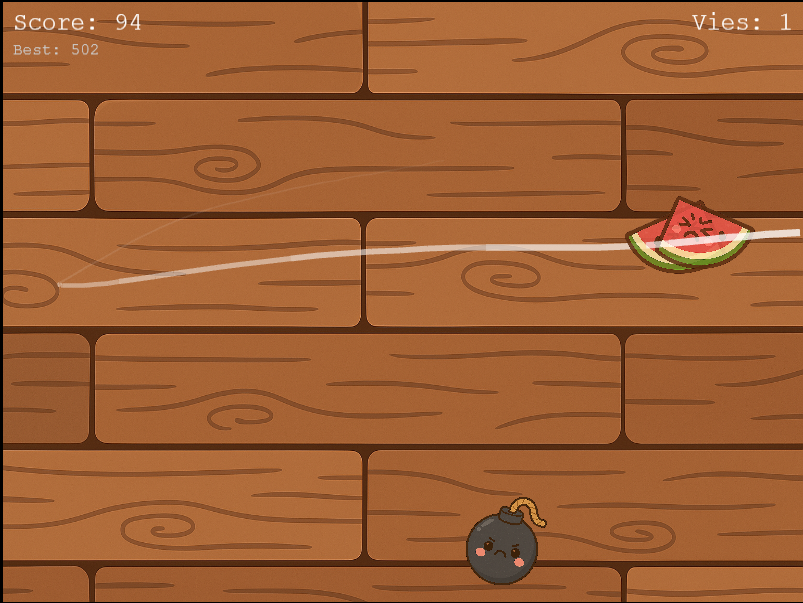bomb: (463, 490, 552, 592)
